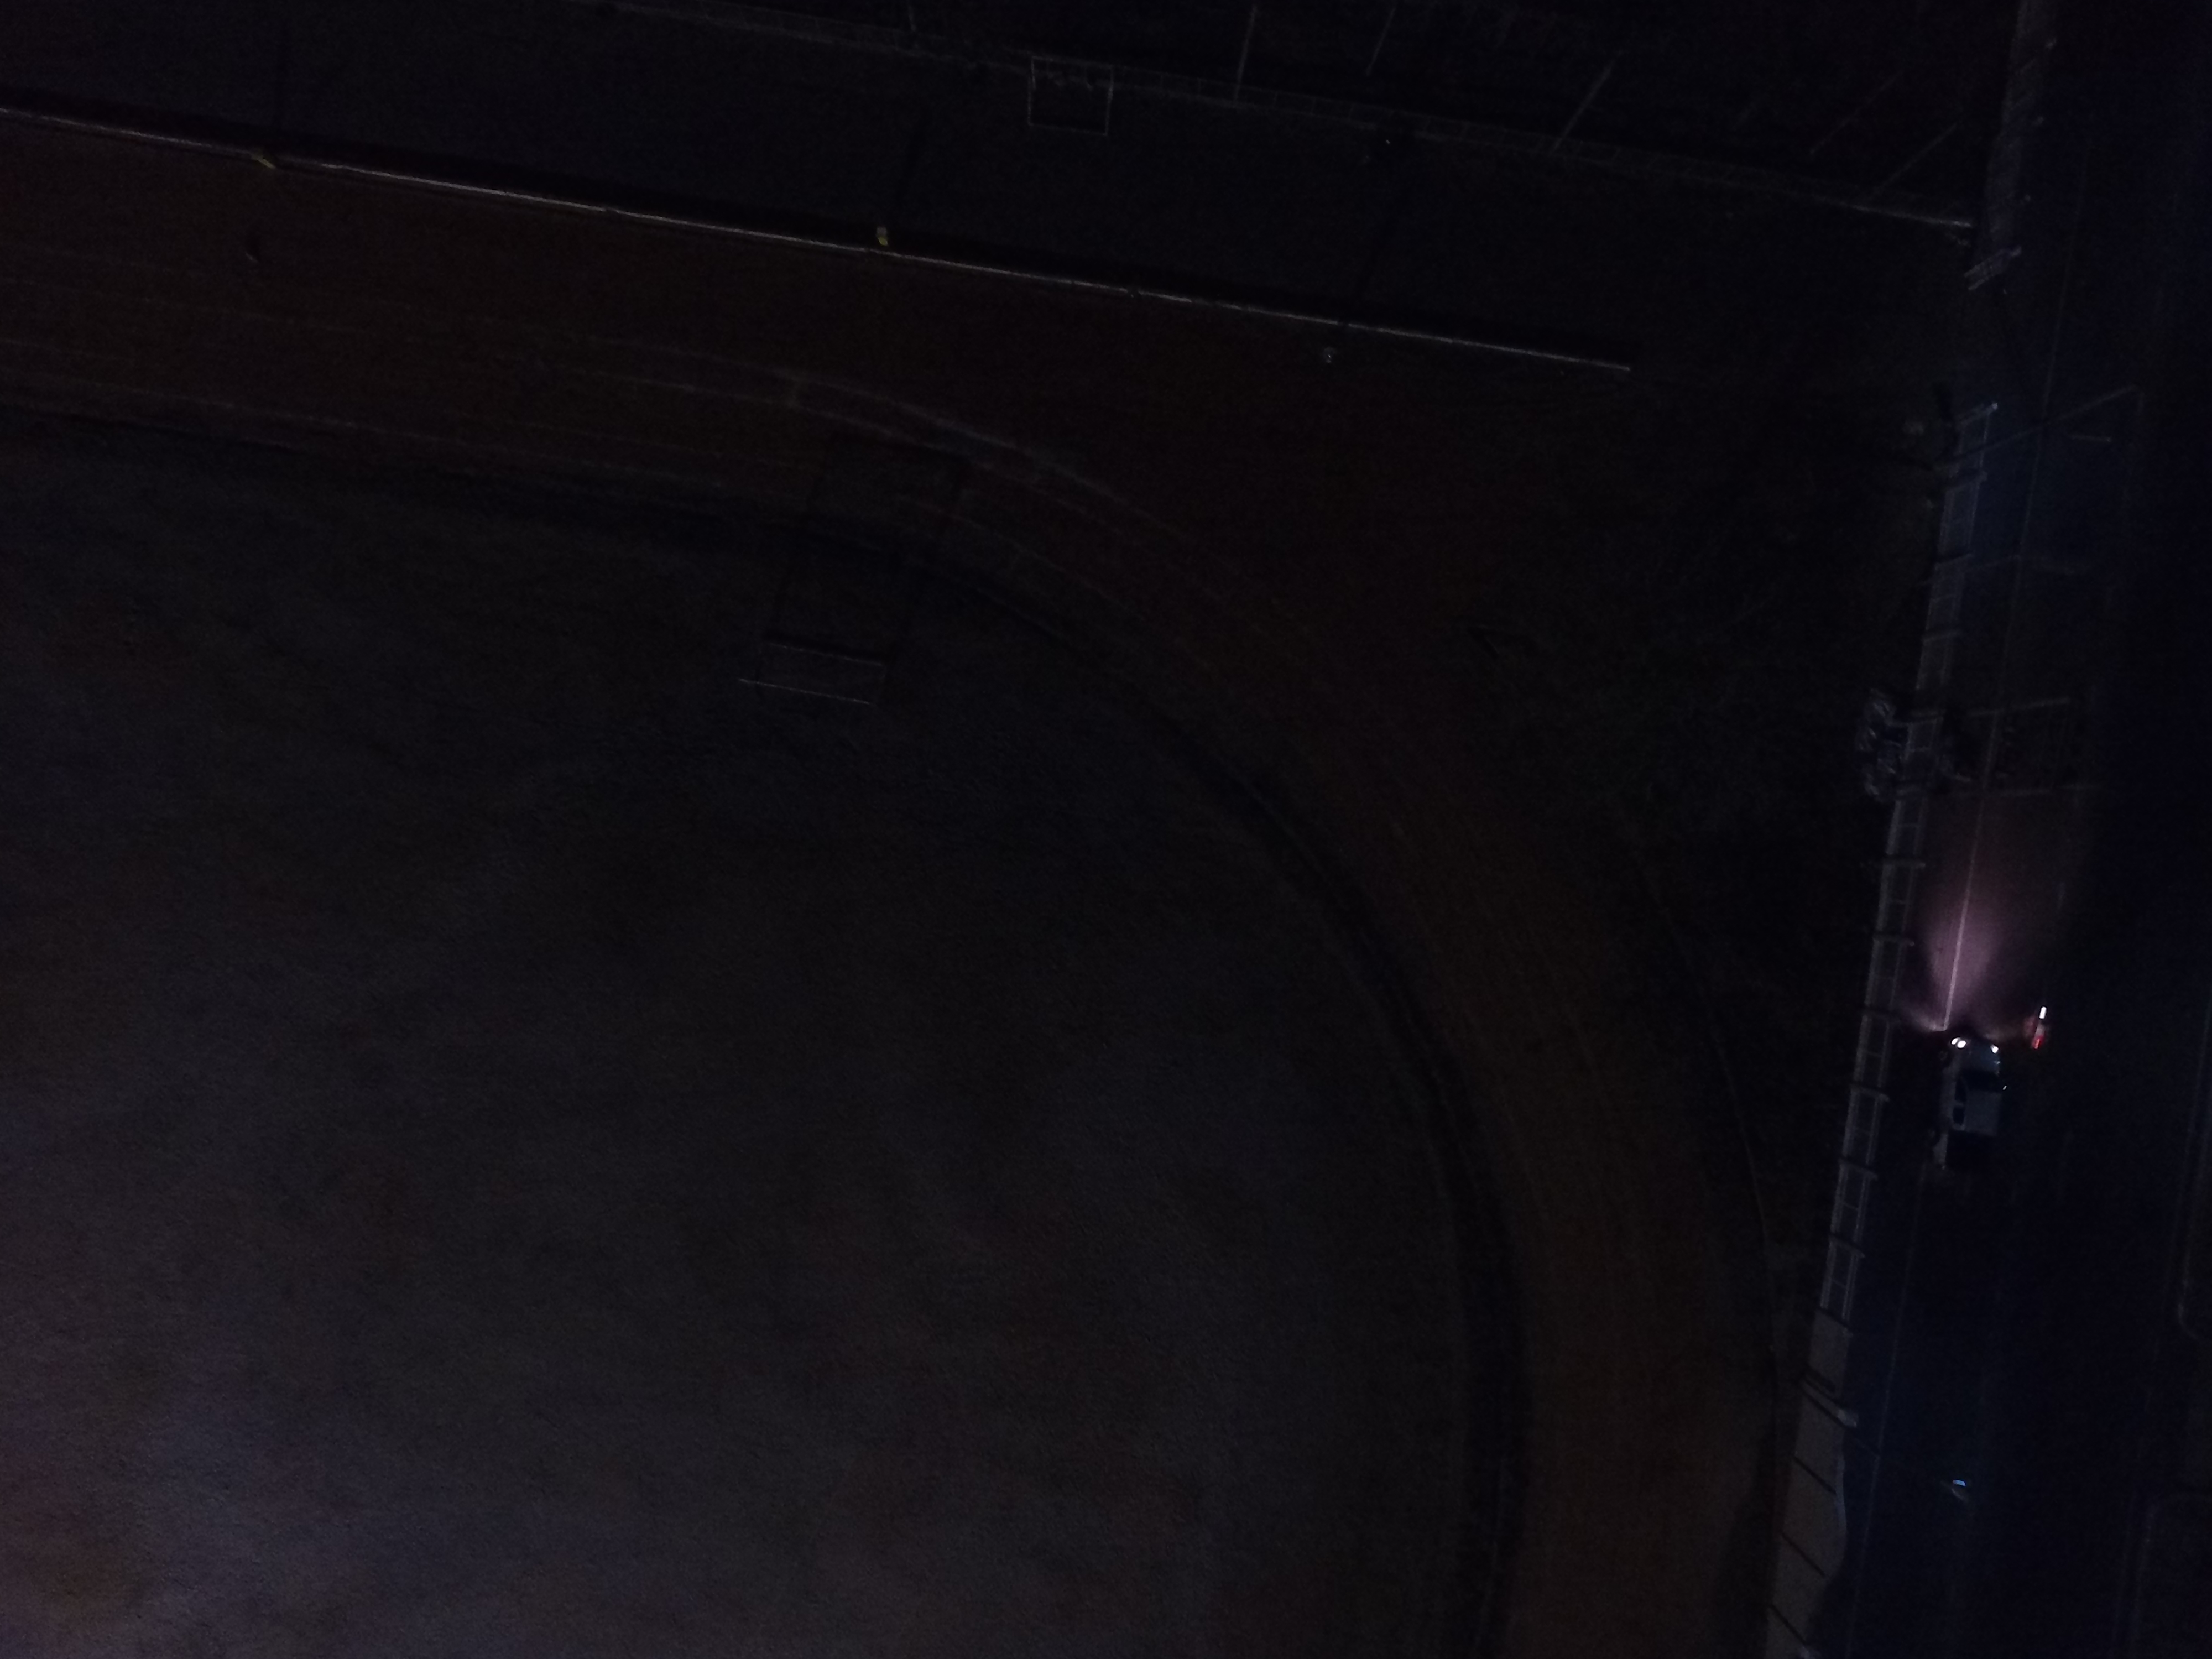car: (1900, 974, 2027, 1213)
